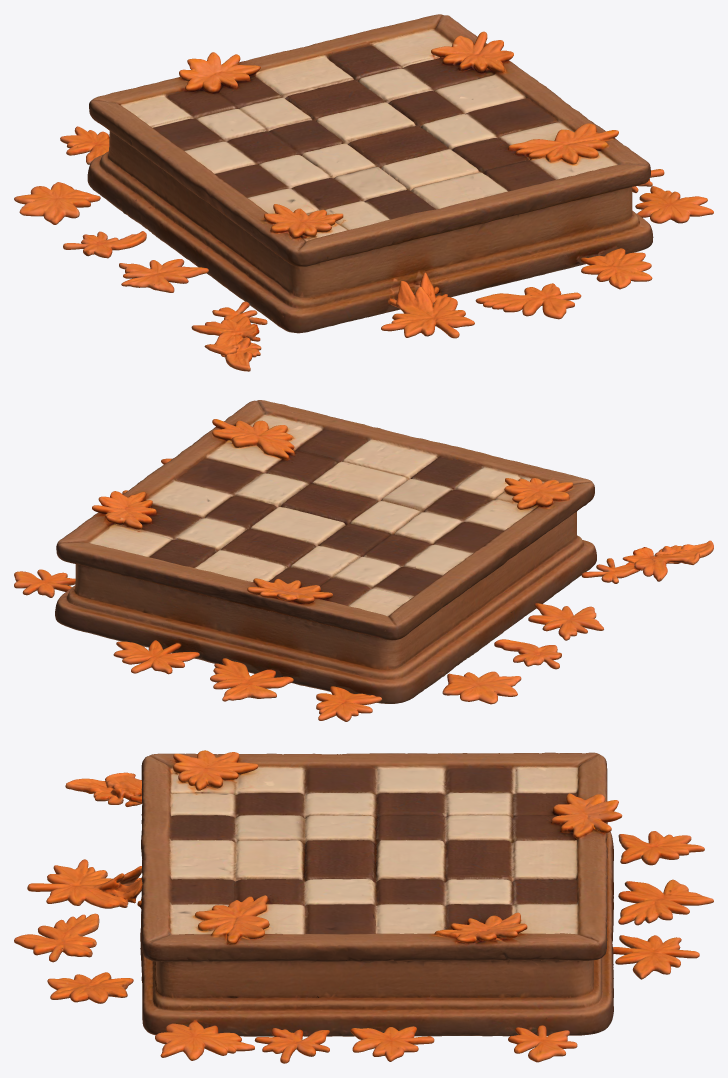
The model's file is ChessBoard.glb.
The picture shows the model from 3 angles, top to bottom: view 1: azimuth 30°, elevation 25°; view 2: azimuth 150°, elevation 25°; view 3: azimuth 270°, elevation 25°; orthographic projection. The views are drawn at different scales.
Size of the model in its own units: 1.83 by 0.3082 by 1.9.
1 material, 1 textured.
